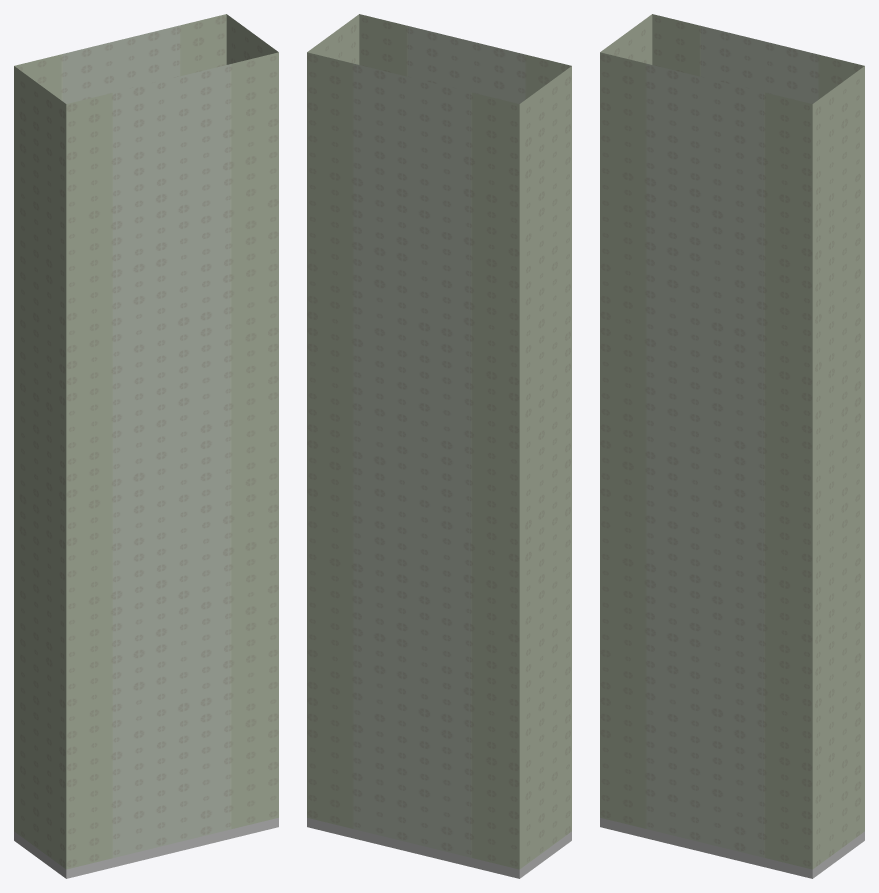
3 views of the same model, side by side, from view 1: azimuth 30°, elevation 25°; view 2: azimuth 150°, elevation 25°; view 3: azimuth 330°, elevation 25° (orthographic).
Parts seen in each view (by area): view 1: Mesh (61); view 2: Mesh (61); view 3: Mesh (61).
Part boxes in pixels (x1,y1,x2,y2): Mesh (61): (14, 14, 278, 878); Mesh (61): (307, 14, 571, 878); Mesh (61): (600, 14, 864, 878).
Bounding box in the file's own units: 100 × 348 × 42.6.
